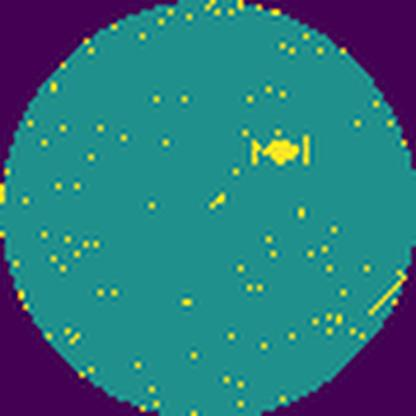Loc: (252, 132, 312, 169)
